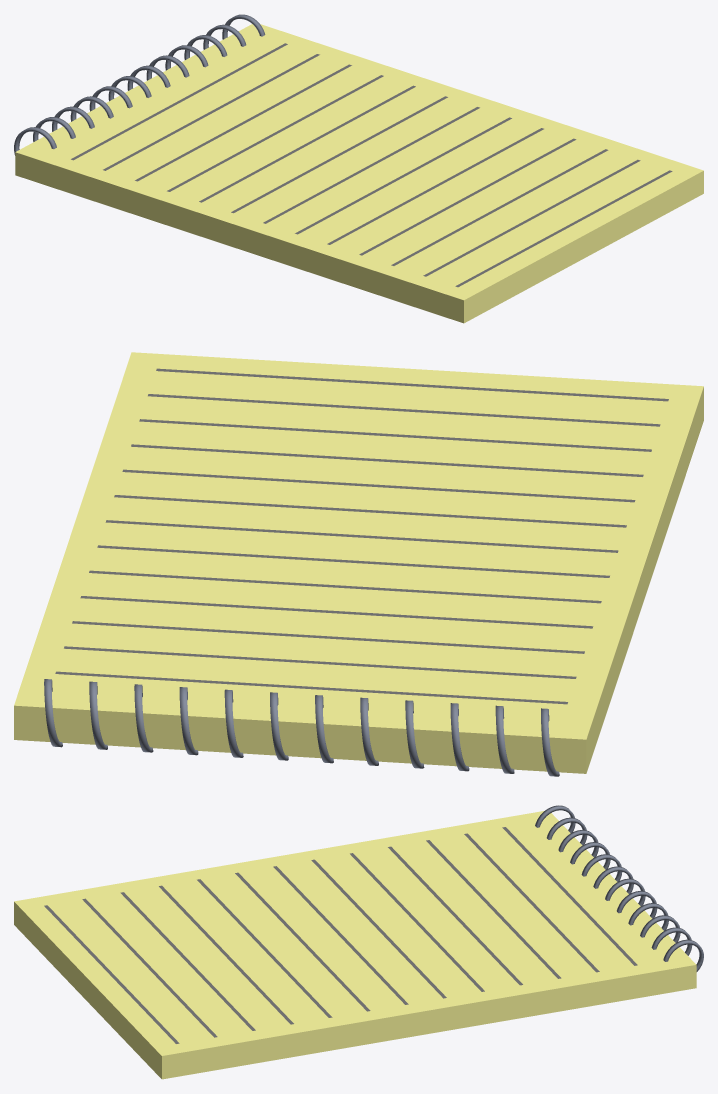
Rendered from Notepad.glb.
The picture shows the model from 3 angles, top to bottom: view 1: azimuth 30°, elevation 25°; view 2: azimuth 150°, elevation 25°; view 3: azimuth 270°, elevation 25°; orthographic projection. The views are drawn at different scales.
Parts seen in each view (by area): view 1: Notepad, Metal Ring; view 2: Notepad, Metal Ring; view 3: Notepad, Metal Ring.
Boxes of the visible parts, x1,y1,x2,y2 form: Notepad: (15,24,703,323); Metal Ring: (14,14,265,155); Notepad: (14,352,703,773); Metal Ring: (44,679,559,776); Notepad: (14,811,696,1079); Metal Ring: (535,805,703,971).
Size of the model in its own units: 0.1206 by 0.00942 by 0.143.
